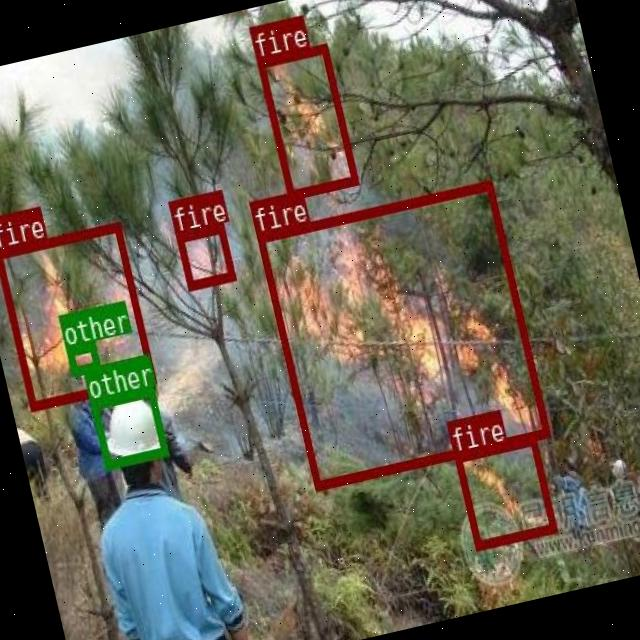fire: (254, 178, 548, 488), (0, 220, 154, 409), (256, 43, 358, 198), (452, 433, 555, 548), (174, 223, 234, 289)
